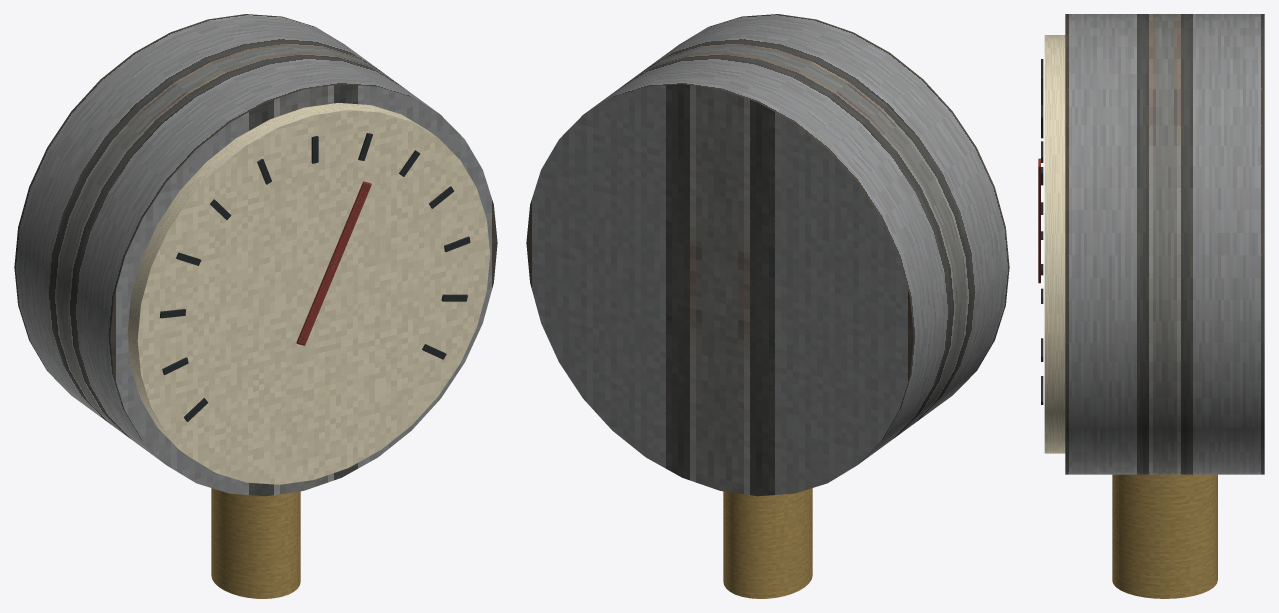
The model's file is gauge.glb.
3 views of the same model, side by side, from view 1: azimuth 30°, elevation 25°; view 2: azimuth 150°, elevation 25°; view 3: azimuth 270°, elevation 25° (orthographic). The views are drawn at different scales.
Parts seen in each view (by area): view 1: dial, rim, stem, needle; view 2: rim, stem; view 3: rim, stem, dial, needle.
Part boxes in pixels (box(x1,y1,x2,y2)): dial: box(127, 103, 490, 484); rim: box(14, 14, 497, 496); stem: box(211, 488, 300, 598); needle: box(296, 181, 371, 345); rim: box(526, 14, 1009, 496); stem: box(723, 488, 812, 598); rim: box(1065, 14, 1264, 474); stem: box(1112, 474, 1217, 598); dial: box(1044, 35, 1065, 453); needle: box(1038, 158, 1040, 283).
Size of the model in its own units: 0.14 by 0.1809 by 0.0681.
5 materials, 5 textured.
